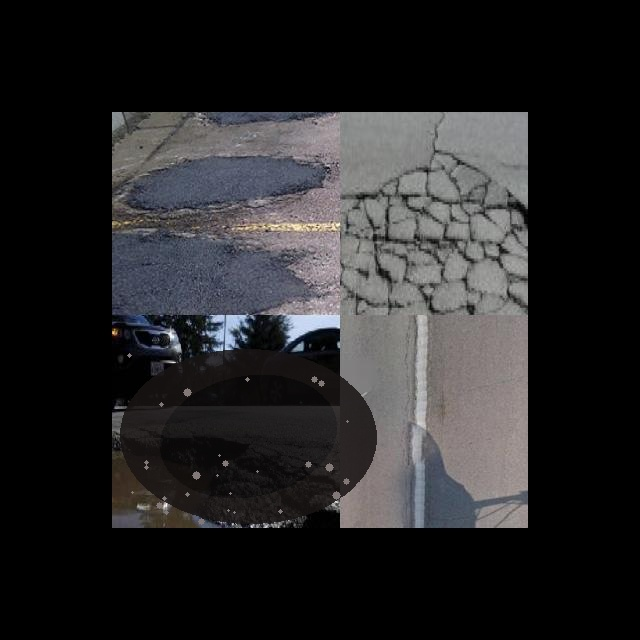pothole: (115, 344, 381, 528)
